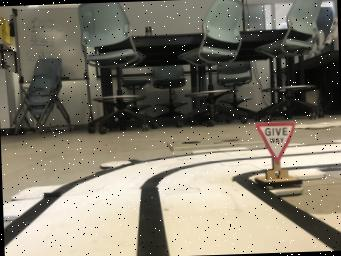give_way: (254, 122, 303, 196), (254, 122, 303, 196), (254, 122, 303, 196)
street: (3, 148, 341, 256), (3, 148, 341, 256), (3, 148, 341, 256)
